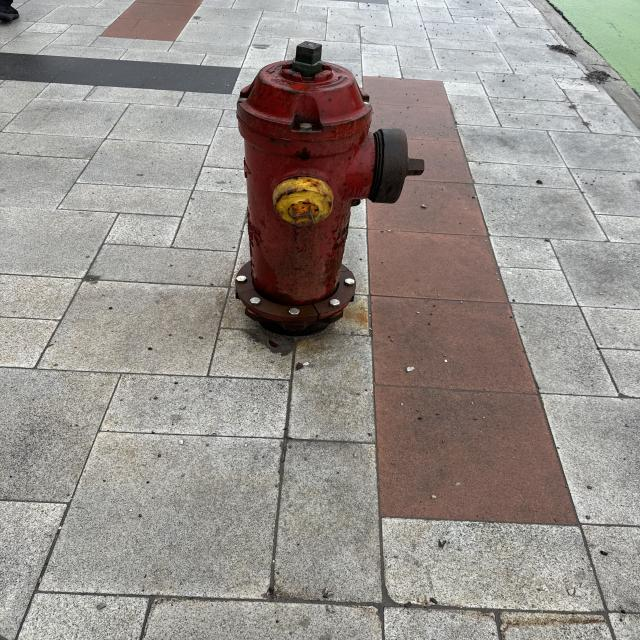Fire hydrant: (232, 41, 425, 329)
